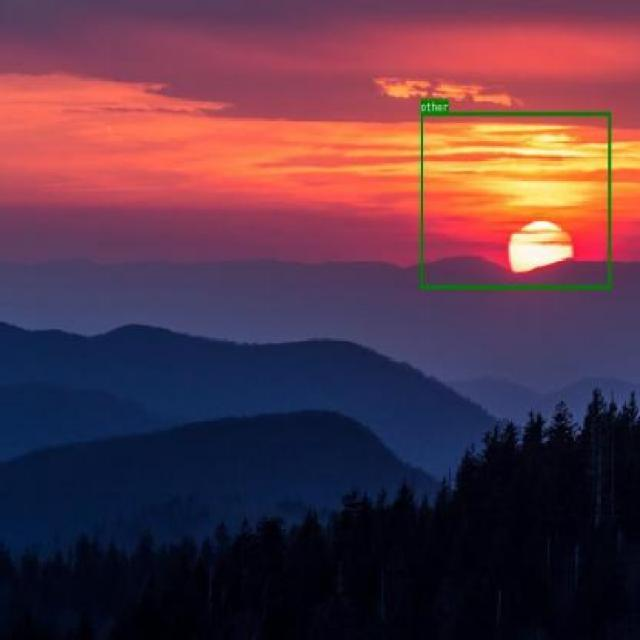other: (420, 112, 611, 288)
